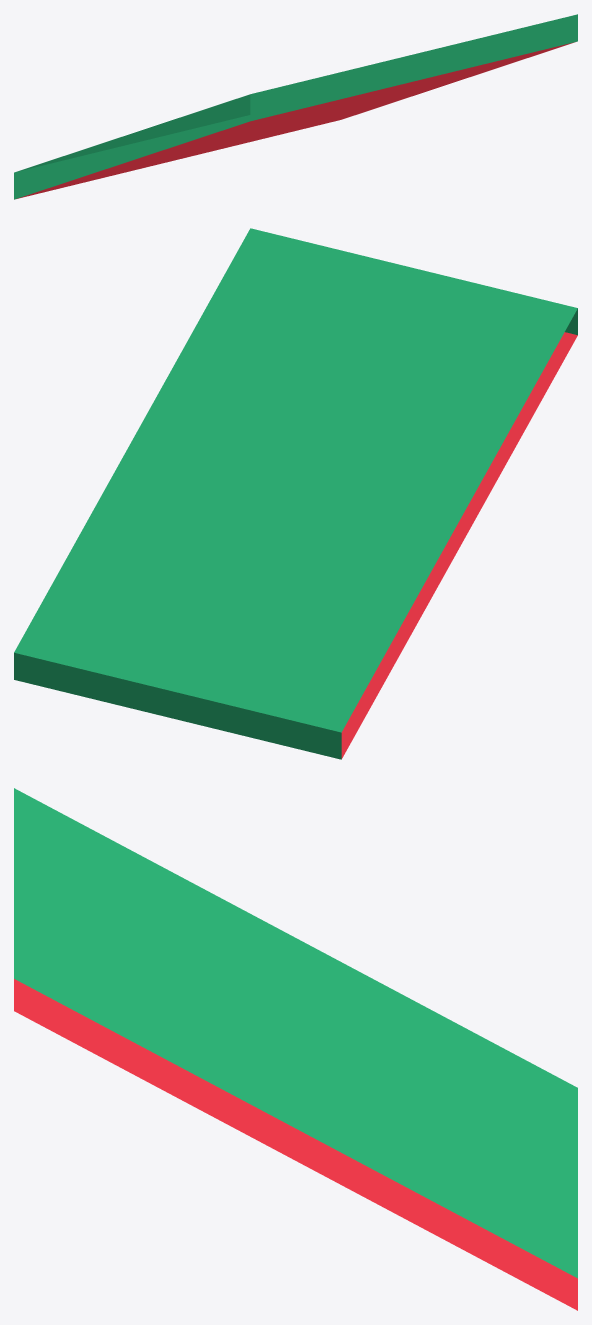
The model's file is ramp D base.FBX.
3 views of the same model, one above another, from view 1: azimuth 30°, elevation 25°; view 2: azimuth 150°, elevation 25°; view 3: azimuth 270°, elevation 25° (orthographic). The views are drawn at different scales.
Parts seen in each view (by area): view 1: rampD; view 2: rampD; view 3: rampD.
Boxes of the visible parts, x1,y1,x2,y2 form: rampD: (14, 14, 577, 199); rampD: (14, 228, 577, 759); rampD: (14, 788, 577, 1310).
Bounding box in the file's own units: 79.99 × 64.99 × 99.99.
